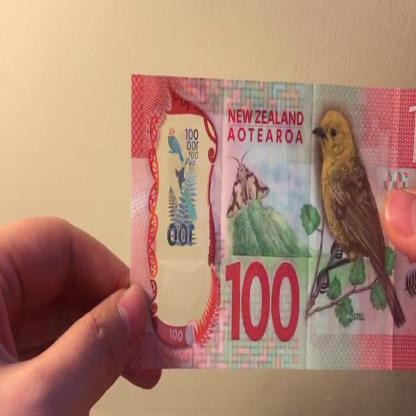100B: (163, 121, 204, 300)
